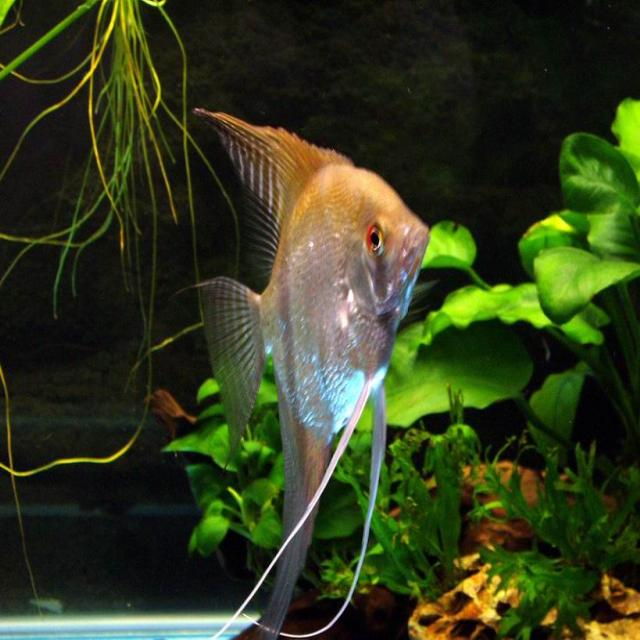AngelFish: (181, 103, 430, 640)
